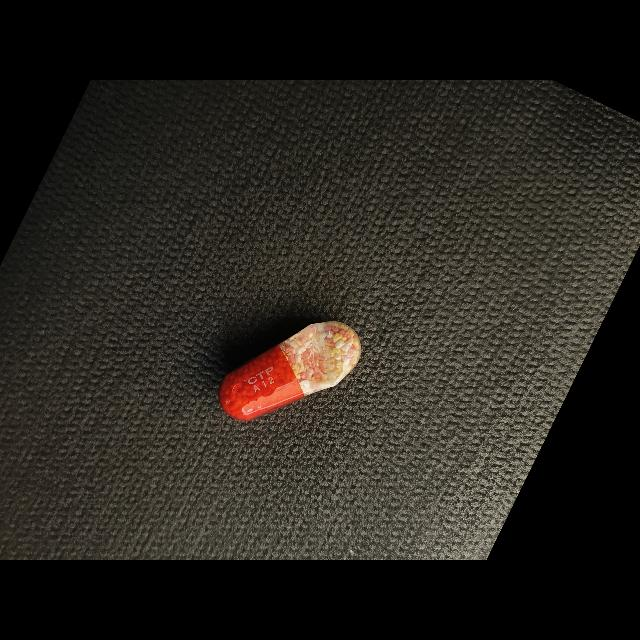Defective Capsule: (219, 321, 361, 421)
